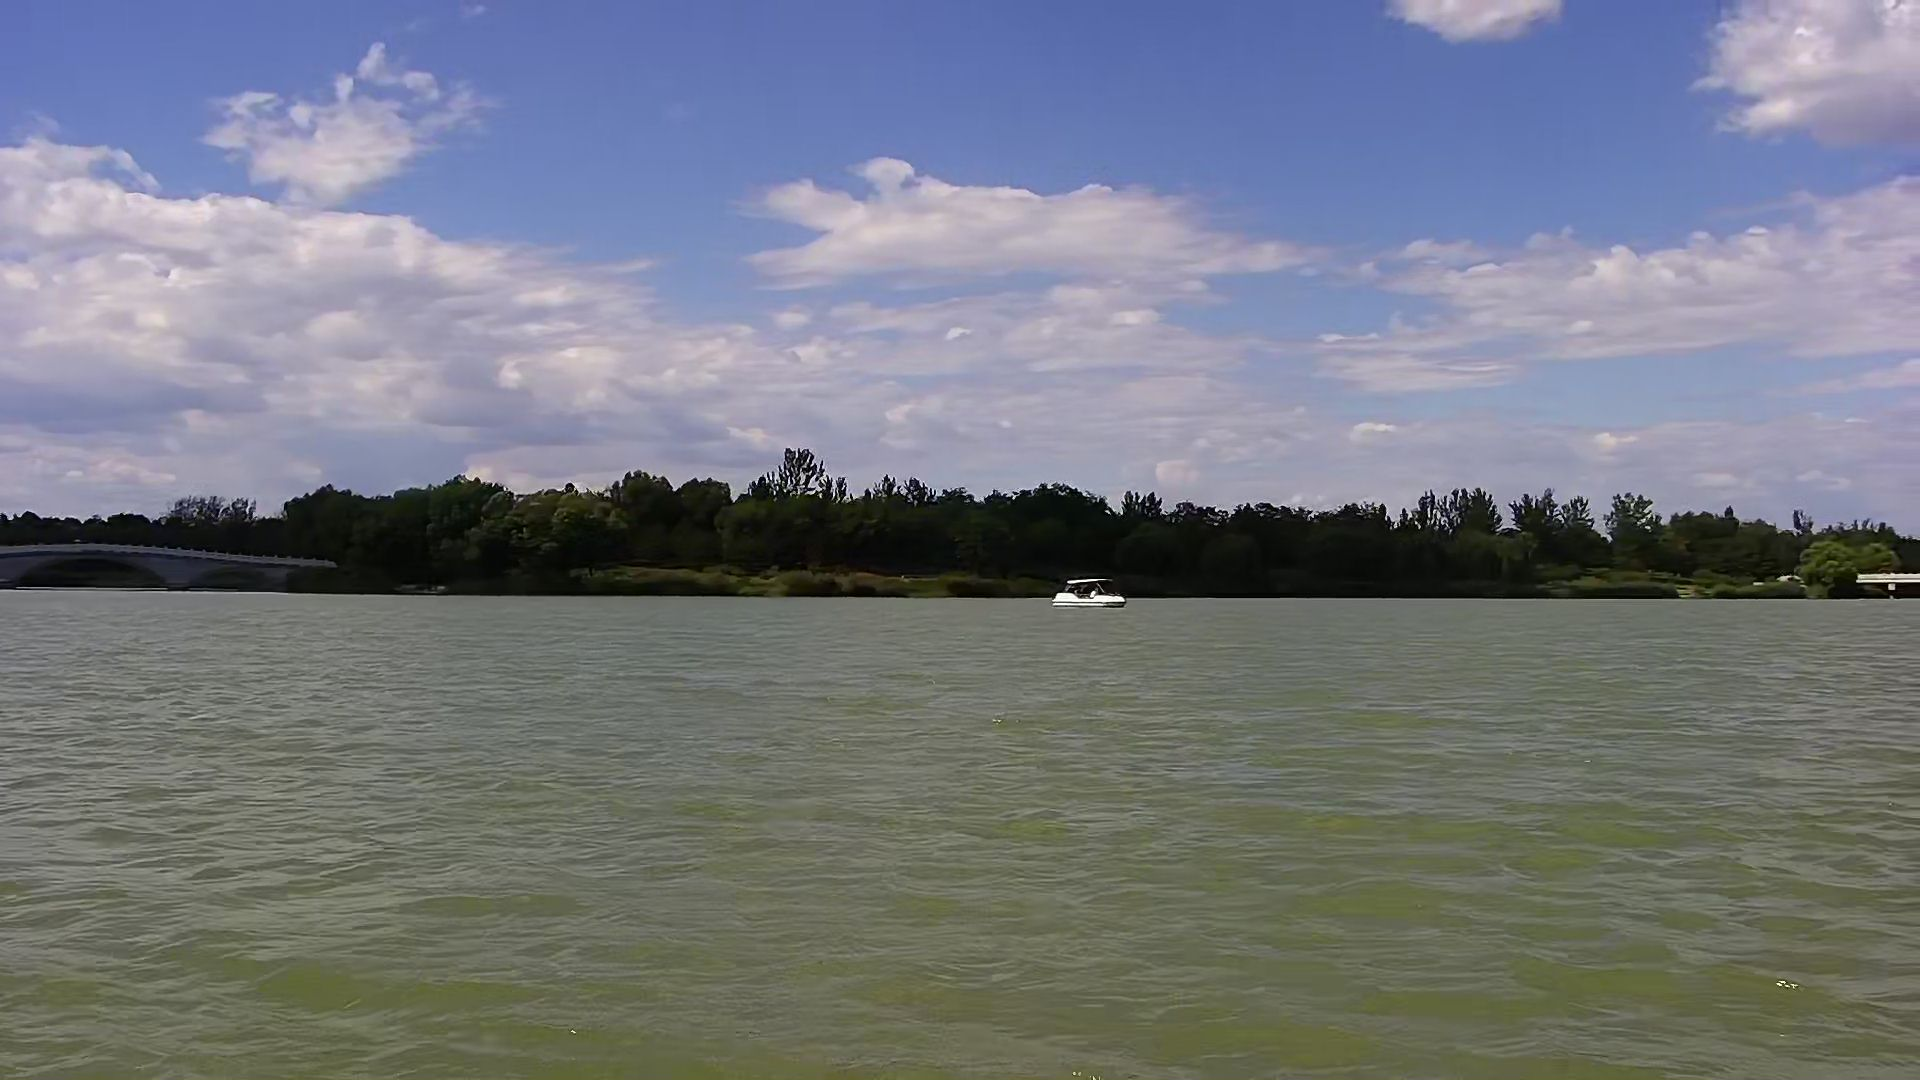boat: (1052, 570, 1131, 616)
bridge: (1, 541, 340, 593)
